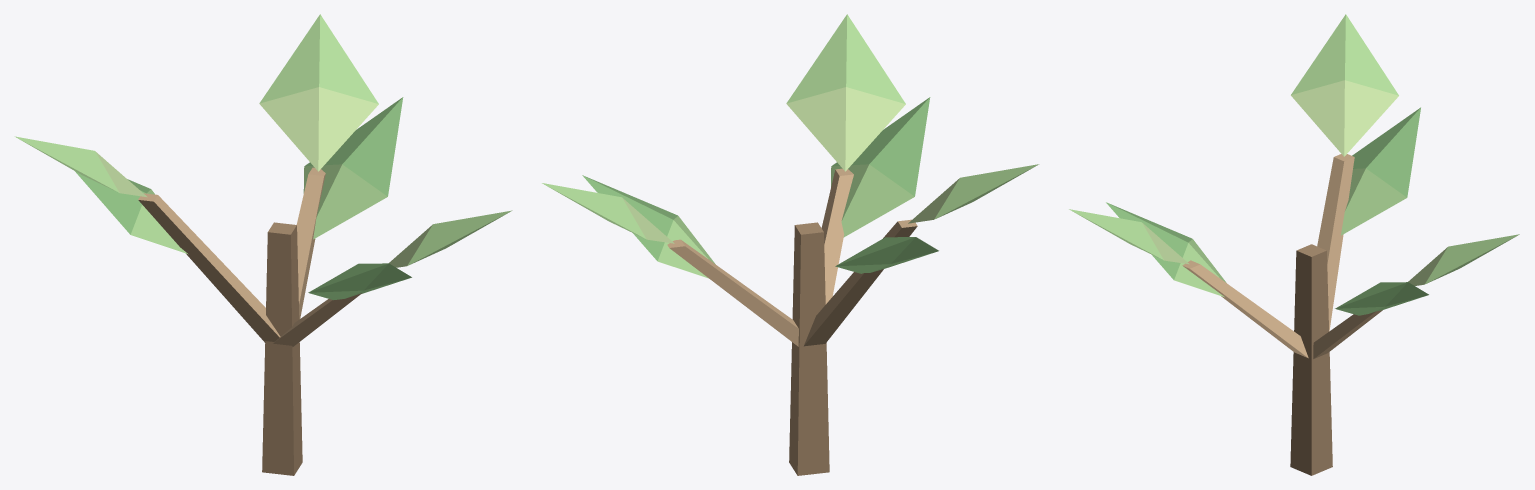
Rendered from crop_berry_s1.glb.
The picture shows the model from 3 angles, left to right: view 1: azimuth 30°, elevation 25°; view 2: azimuth 150°, elevation 25°; view 3: azimuth 270°, elevation 25°; orthographic projection. The views are drawn at different scales.
Visible parts, largest first — view 1: crop_berry_s1; view 2: crop_berry_s1; view 3: crop_berry_s1.
Boxes of the visible parts, x1,y1,x2,y2 form: crop_berry_s1: (14, 14, 512, 475); crop_berry_s1: (542, 14, 1039, 475); crop_berry_s1: (1069, 14, 1519, 475).
Bounding box in the file's own units: 0.3342 × 0.285 × 0.3408.
